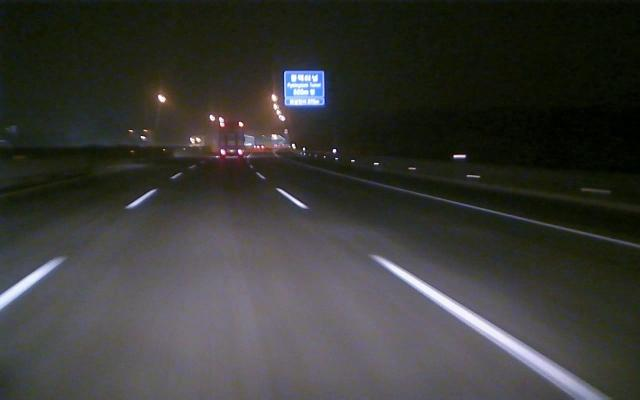lane: (278, 188, 610, 399), (367, 178, 640, 250), (1, 192, 151, 309)
